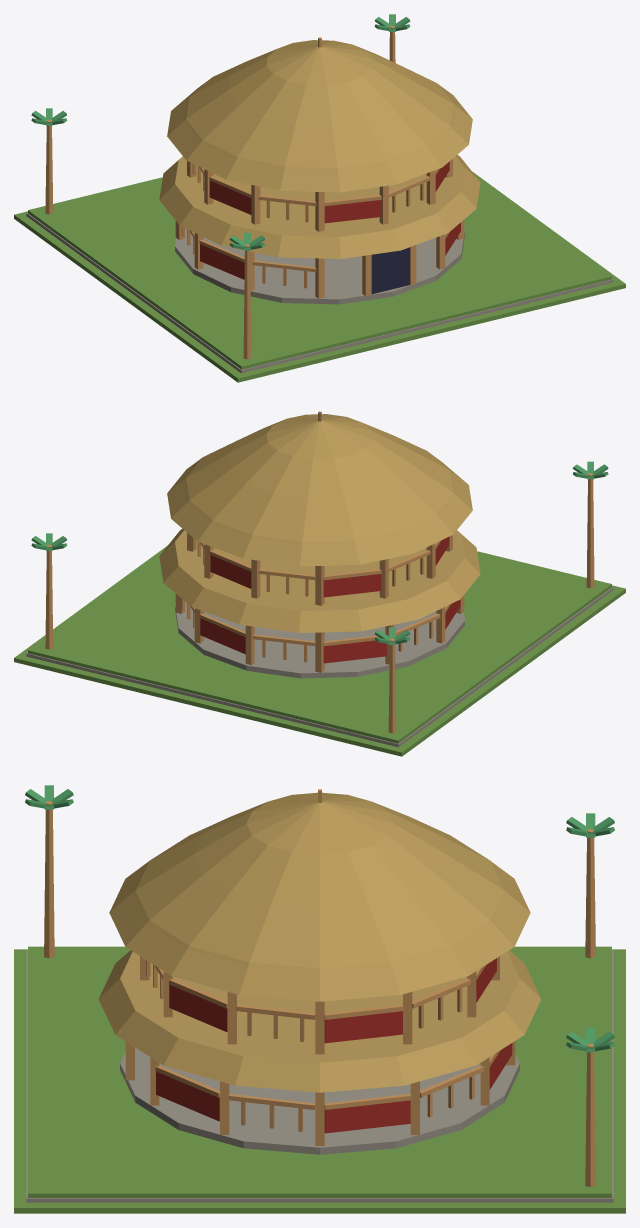
The model's file is house-2x2-2f-fale-a.glb.
The picture shows the model from 3 angles, top to bottom: view 1: azimuth 30°, elevation 25°; view 2: azimuth 150°, elevation 25°; view 3: azimuth 270°, elevation 25°; orthographic projection. The views are drawn at different scales.
Visible parts, largest first — view 1: house-2x2-2f-fale-a; view 2: house-2x2-2f-fale-a; view 3: house-2x2-2f-fale-a.
Boxes of the visible parts, x1,y1,x2,y2 form: house-2x2-2f-fale-a: (14,14,625,382); house-2x2-2f-fale-a: (14,411,625,756); house-2x2-2f-fale-a: (14,785,625,1213).
Size of the model in its own units: 1.99 by 1.05 by 1.99.
Materials: 1 (1 with a texture image).
